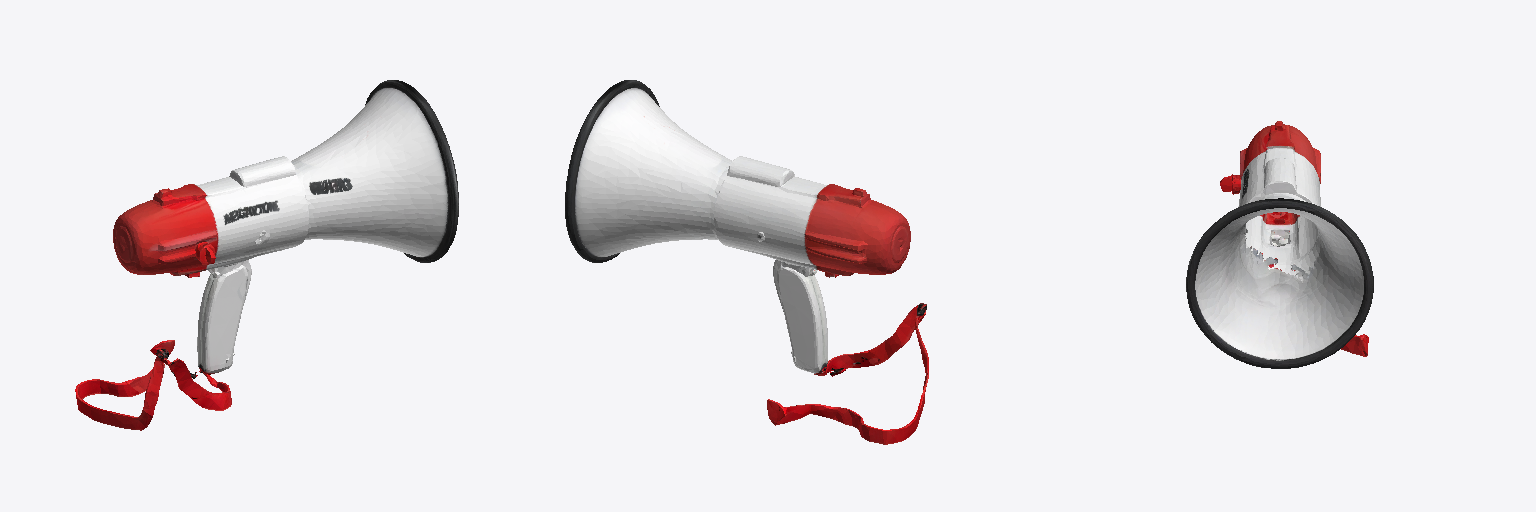
3 views of the same model, side by side, from view 1: azimuth 30°, elevation 25°; view 2: azimuth 150°, elevation 25°; view 3: azimuth 270°, elevation 25° (orthographic).
Visible parts, largest first — view 1: Megaphone_Burst_[number redacted]_texture; view 2: Megaphone_Burst_[number redacted]_texture; view 3: Megaphone_Burst_[number redacted]_texture.
Boxes of the visible parts, box(x1,y1,x2,y2) form: Megaphone_Burst_[number redacted]_texture: box(75, 80, 458, 430); Megaphone_Burst_[number redacted]_texture: box(565, 80, 928, 444); Megaphone_Burst_[number redacted]_texture: box(1186, 121, 1373, 368).
Size of the model in its own units: 2 by 1.6 by 1.03.
1 materials, 1 textured.